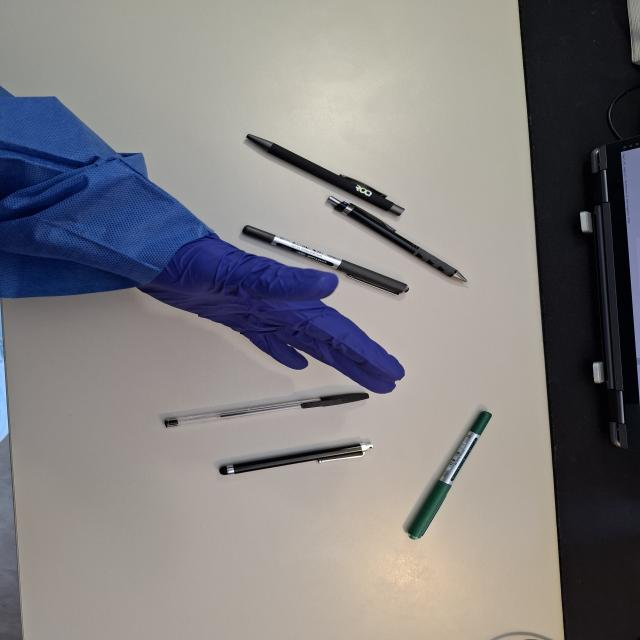glove_on: (136, 229, 408, 396)
